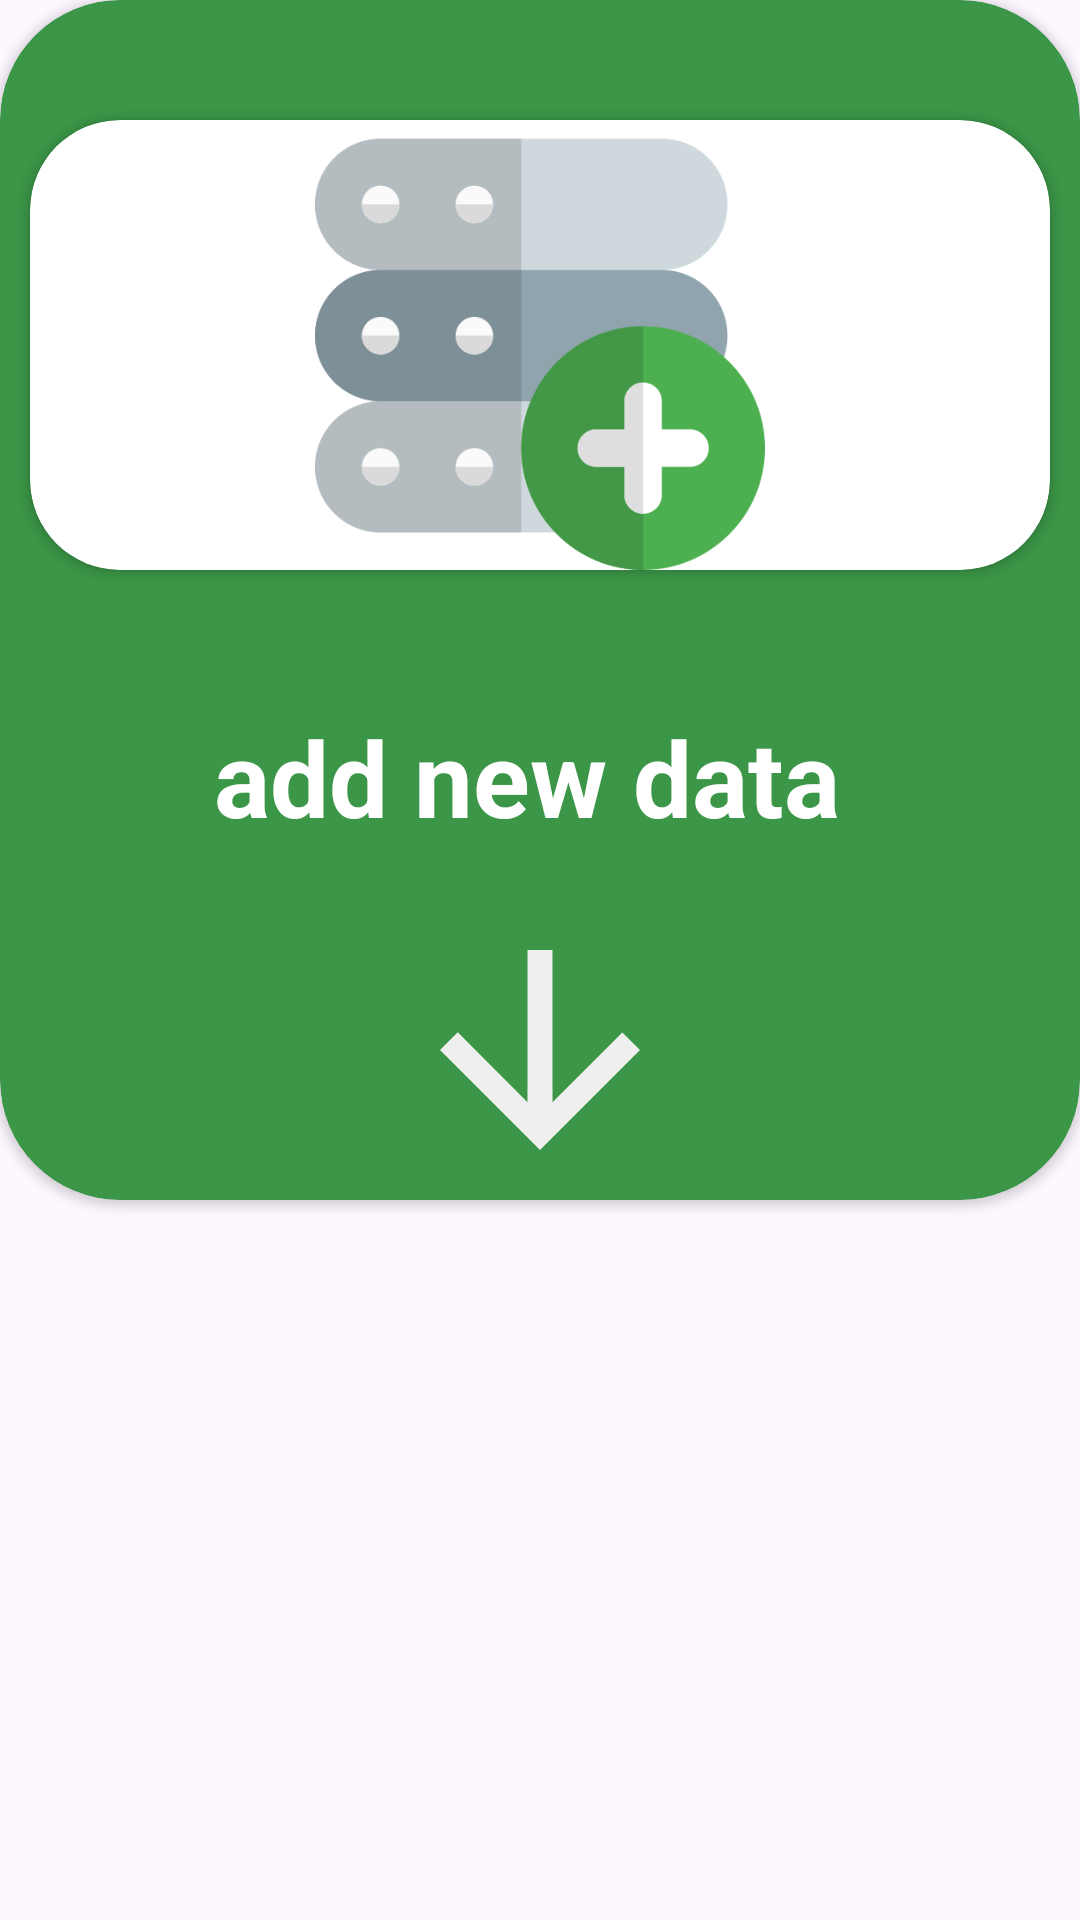

Named icons in this screenshot (1080px×1920px) and their bounding boxes, (x1, y1, x2, y2):
arrow downward: (440, 950, 640, 1150)
